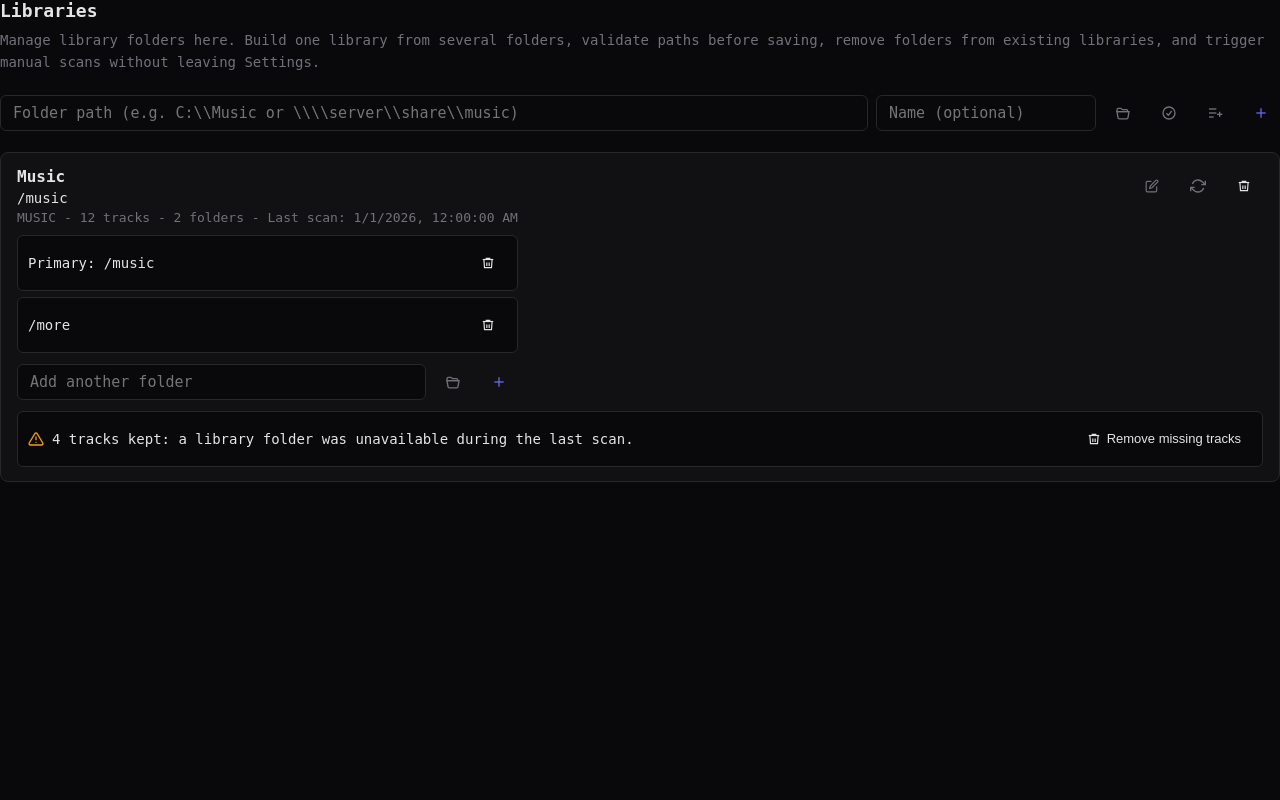
it: LibrarySettingsTab › shows kept missing tracks and removes them after confirmation
Expected: the message shows "4 tracks kept: a library folder was unavailable during the last scan.", [52,431,634,447]
What coordinates should you click on to do the following:
click the button "Remove missing tracks"
I would click on:
 (1164, 439)
Its box is [1076,420,1252,458].
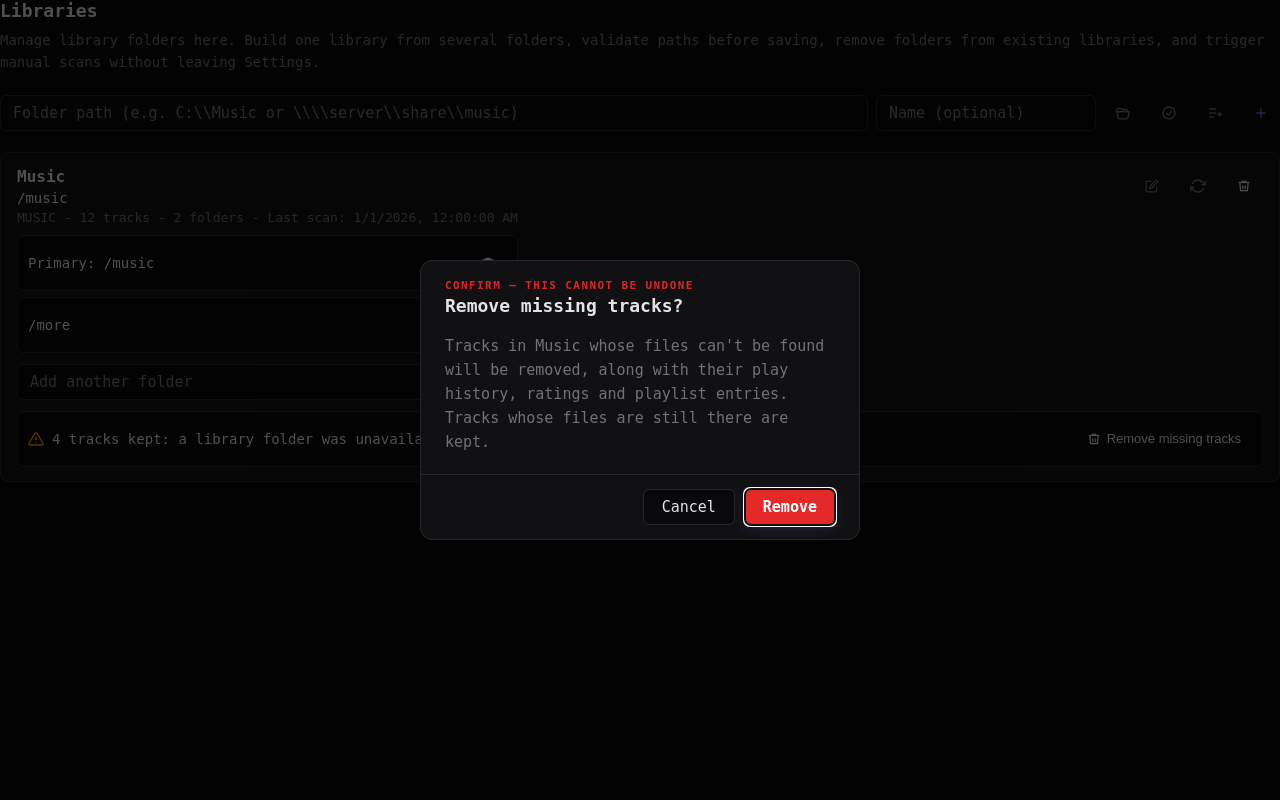
Expected: the text "Remove missing tracks?" is shown, [445,295,683,316]
Expected: the text "Tracks in Music whose files can't be found will be removed" is shown, [445,337,824,451]
What coordinates should you click on to do the following:
click the button "Remove"
I would click on:
 (790, 507)
Its box is [745,489,835,525].
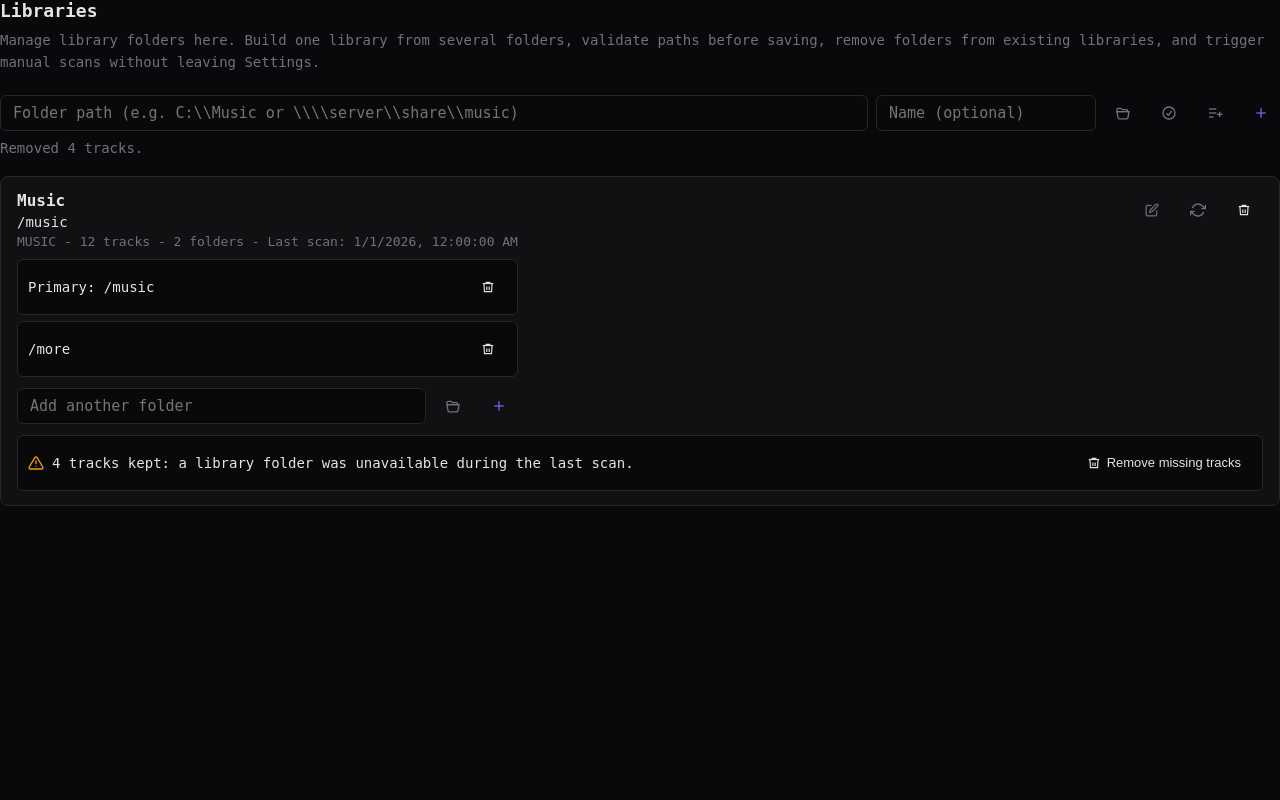
Expected: the text "Removed 4 tracks." is shown, [0,140,143,156]
What coordinates should you click on to do the following:
click the button "Remove missing tracks"
I would click on:
 (1164, 463)
Its box is [1076,444,1252,482].
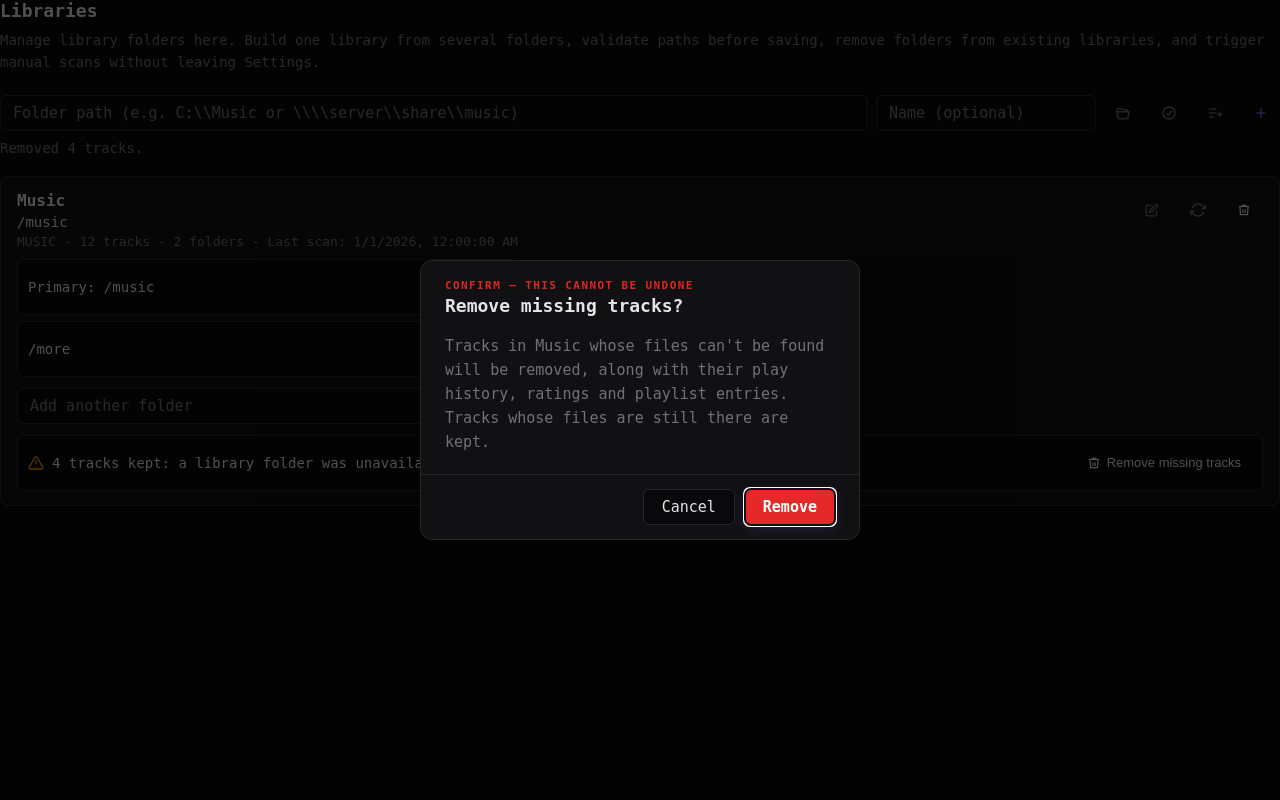
What coordinates should you click on to do the following:
click the button "Remove"
I would click on:
 (790, 507)
Its box is [745,489,835,525].
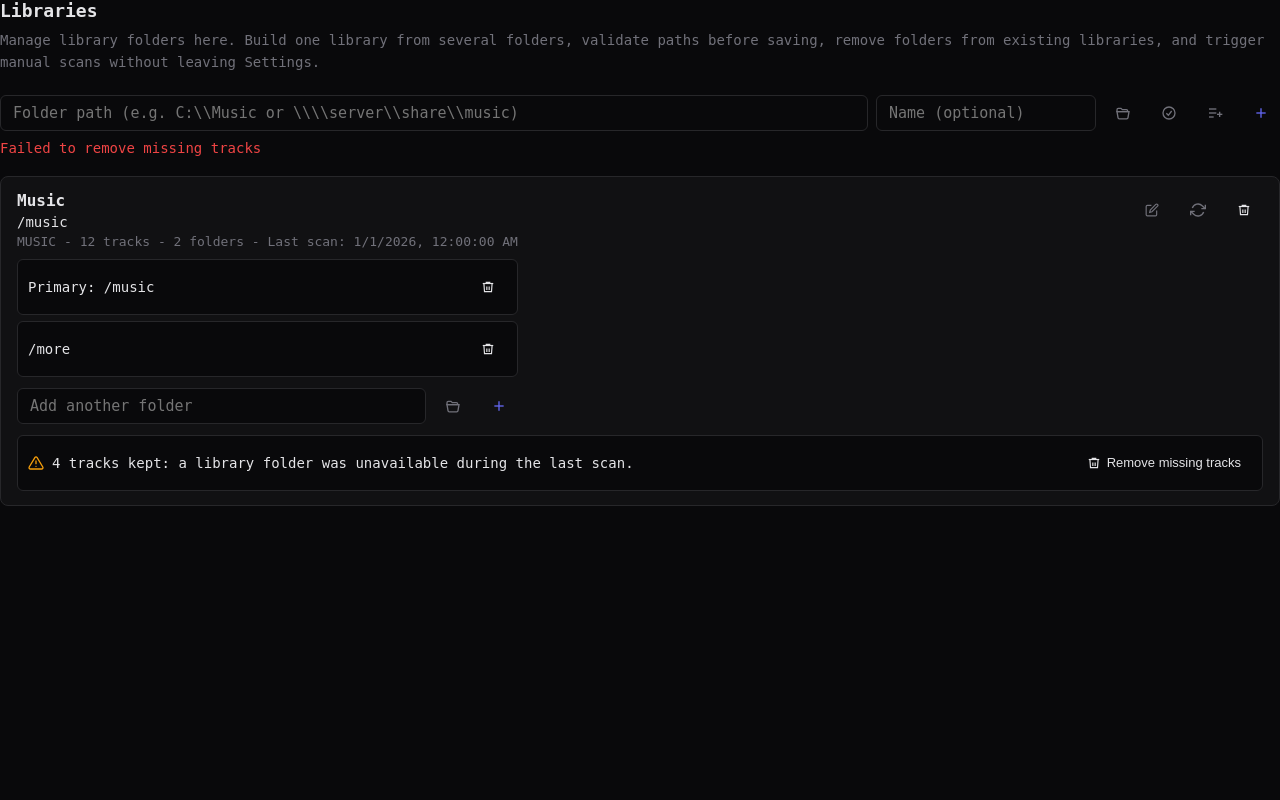
Expected: the text "Failed to remove missing tracks" is shown, [0,140,261,156]
